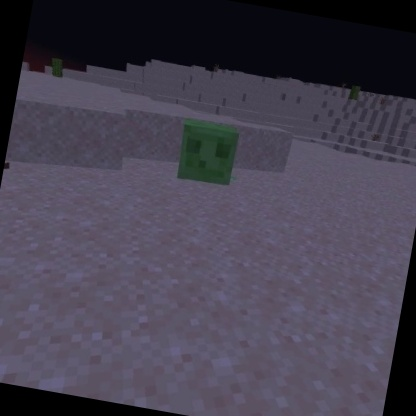slime: (172, 115, 242, 192)
